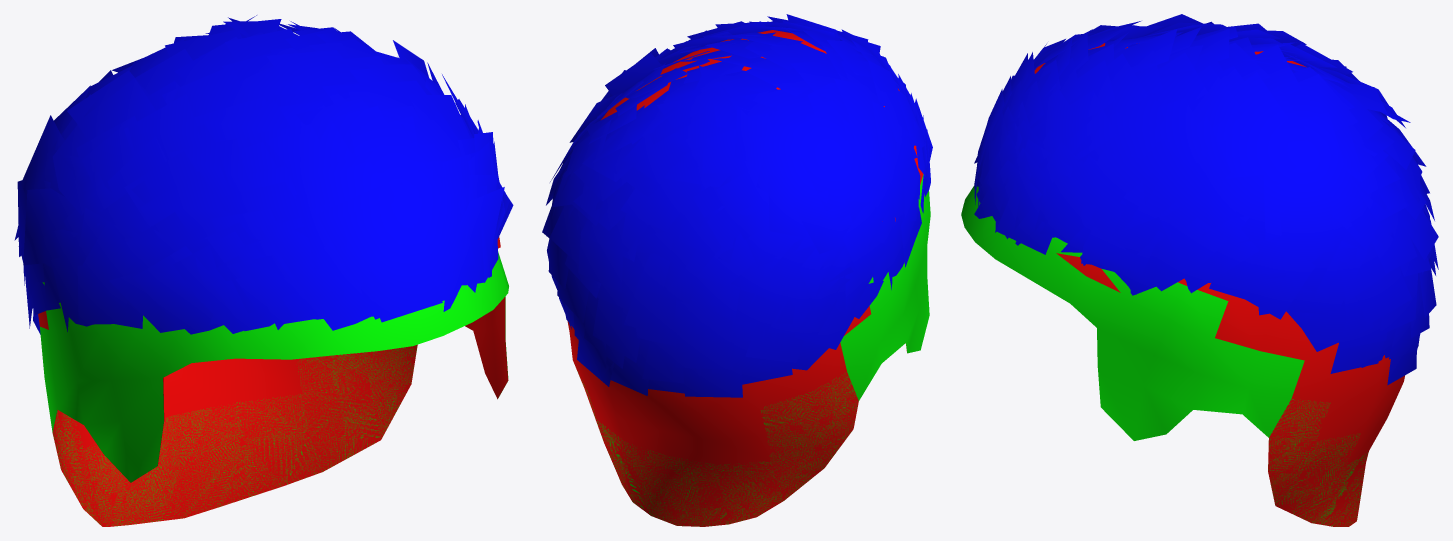
Rendered from hair_003.obj.
The picture shows the model from 3 angles, left to right: view 1: azimuth 30°, elevation 25°; view 2: azimuth 150°, elevation 25°; view 3: azimuth 270°, elevation 25°; orthographic projection. The views are drawn at different scales.
Size of the model in its own units: 15.84 by 20.6 by 18.91.
